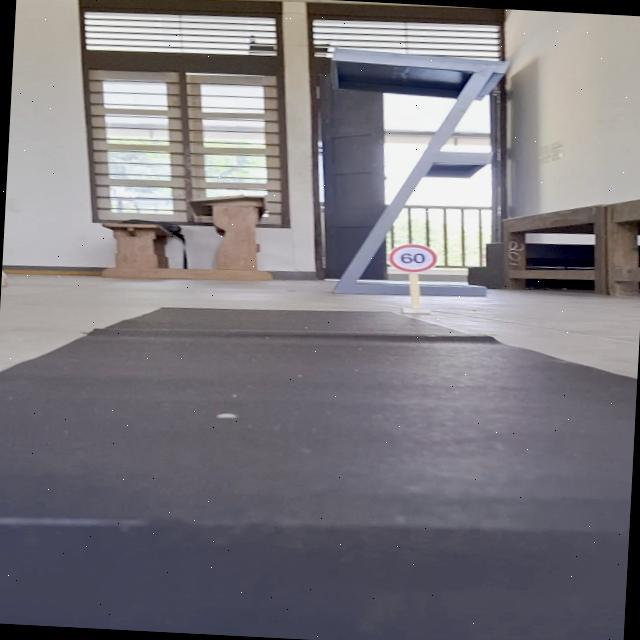Speed60: (383, 242, 441, 275)
